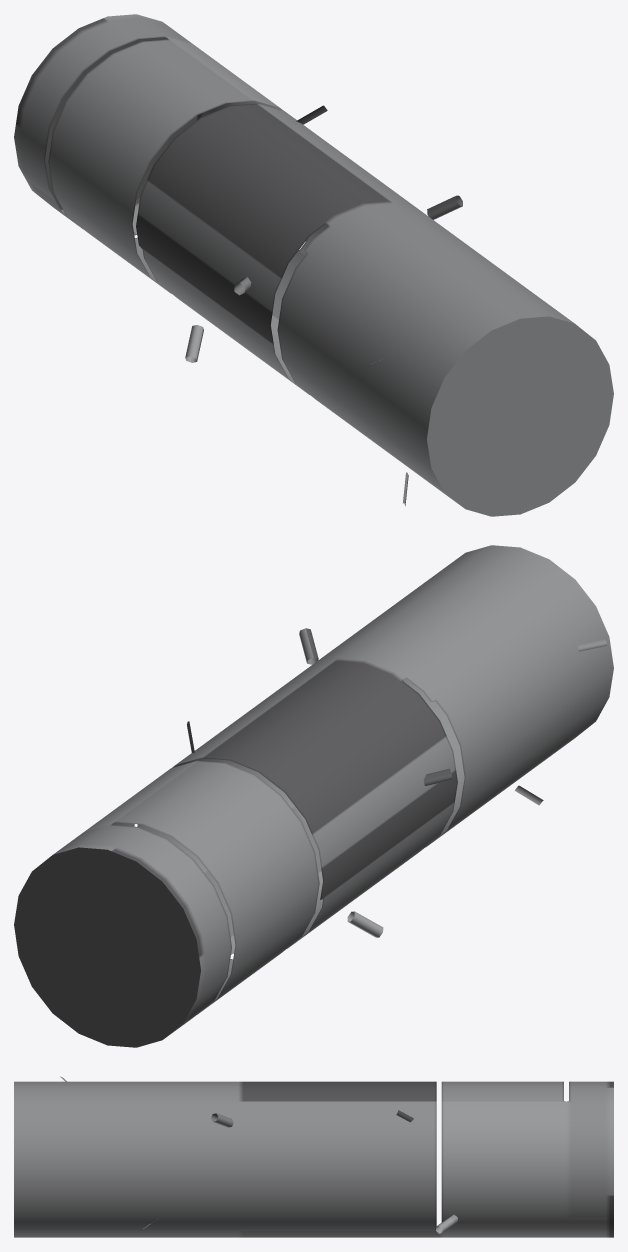
The picture shows the model from 3 angles, top to bottom: view 1: azimuth 30°, elevation 25°; view 2: azimuth 150°, elevation 25°; view 3: azimuth 270°, elevation 25°; orthographic projection. The views are drawn at different scales.
Bounding box in the file's own units: 0.4745 × 0.4038 × 1.41.
